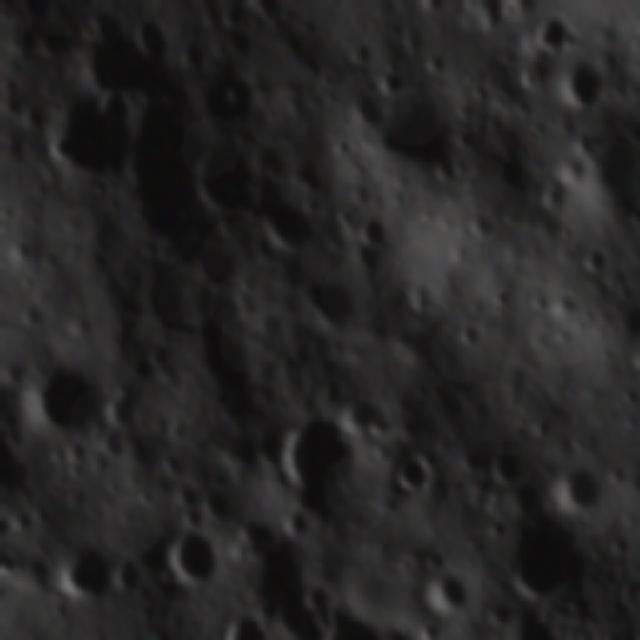crater: (107, 90, 221, 239), (37, 85, 129, 183), (270, 407, 359, 496), (18, 353, 100, 442), (502, 515, 586, 600), (192, 133, 268, 215), (368, 111, 450, 183), (132, 264, 200, 347), (81, 17, 153, 94), (301, 595, 402, 640), (157, 520, 220, 586), (57, 542, 121, 604), (254, 194, 320, 254), (0, 401, 31, 505), (561, 463, 616, 519), (419, 566, 472, 620), (104, 378, 150, 440), (562, 57, 612, 111), (389, 444, 438, 498), (306, 279, 354, 333), (110, 548, 155, 603), (207, 604, 270, 640), (343, 384, 383, 436), (530, 12, 572, 56), (570, 236, 612, 278), (173, 32, 210, 77), (350, 207, 390, 248), (487, 444, 524, 484), (344, 91, 384, 126), (465, 204, 493, 241)
